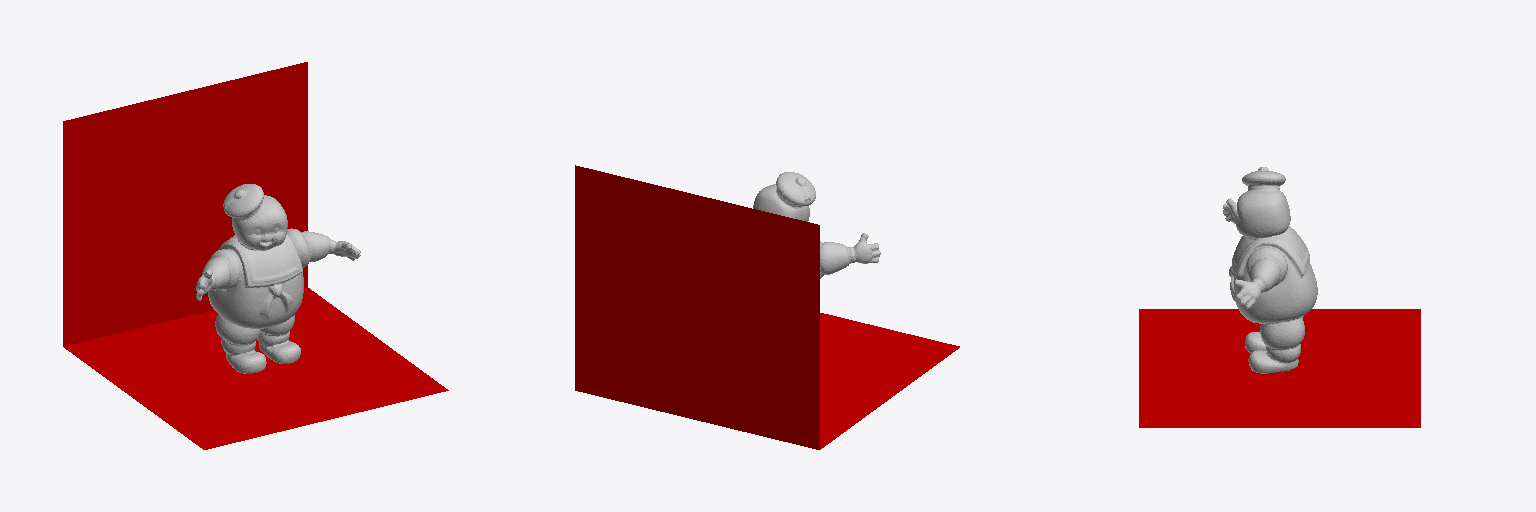
3 renders of one model, left to right at view 1: azimuth 30°, elevation 25°; view 2: azimuth 150°, elevation 25°; view 3: azimuth 270°, elevation 25°, orthographic.
Parts seen in each view (by area): view 1: Plane, toy; view 2: Plane, toy; view 3: Plane, toy.
Part boxes in pixels (bbox=[...]): Plane: bbox=[63, 62, 448, 449]; toy: bbox=[196, 184, 360, 373]; Plane: bbox=[575, 165, 959, 449]; toy: bbox=[753, 172, 880, 278]; Plane: bbox=[1139, 309, 1420, 427]; toy: bbox=[1223, 167, 1317, 373].
Bounding box in the file's own units: 237 × 208 × 237.